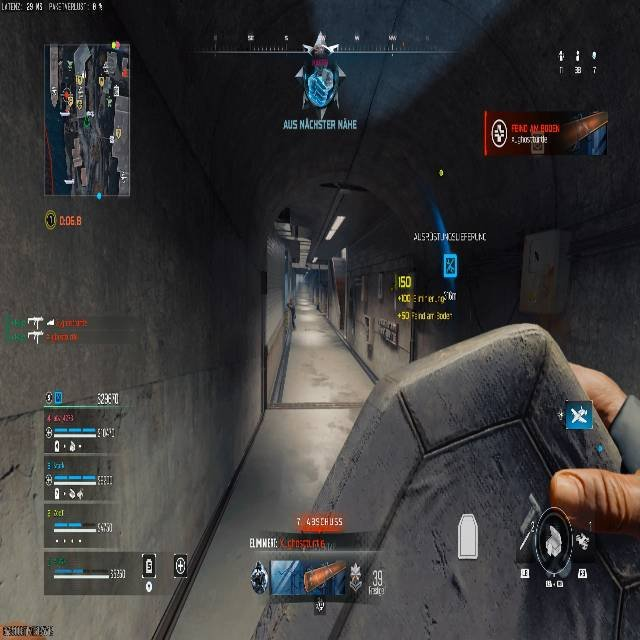player: (293, 32, 347, 115)
